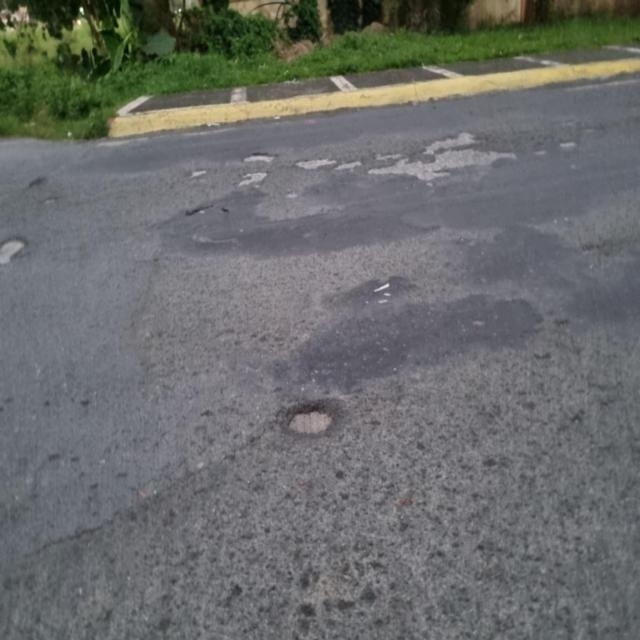pothole: (360, 130, 542, 200), (264, 378, 370, 480), (230, 136, 282, 203), (0, 226, 36, 292), (550, 127, 594, 178), (172, 154, 215, 203), (292, 143, 338, 185), (340, 150, 364, 176)
